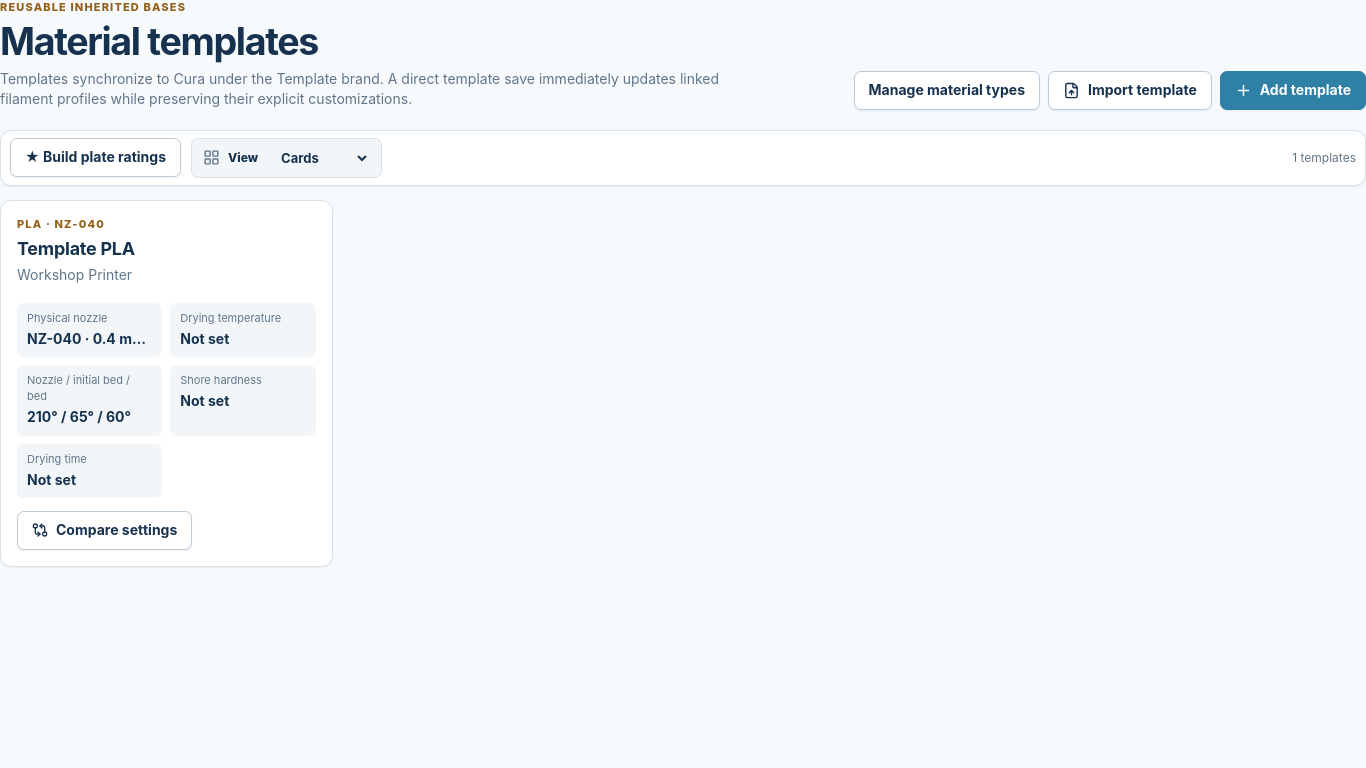
it: TemplatesPage › refreshes every profile and filament cache after a direct template save
Click the button with aria-label "Edit Template PLA": (80, 224) [0,200,332,567]
(page scrolled)
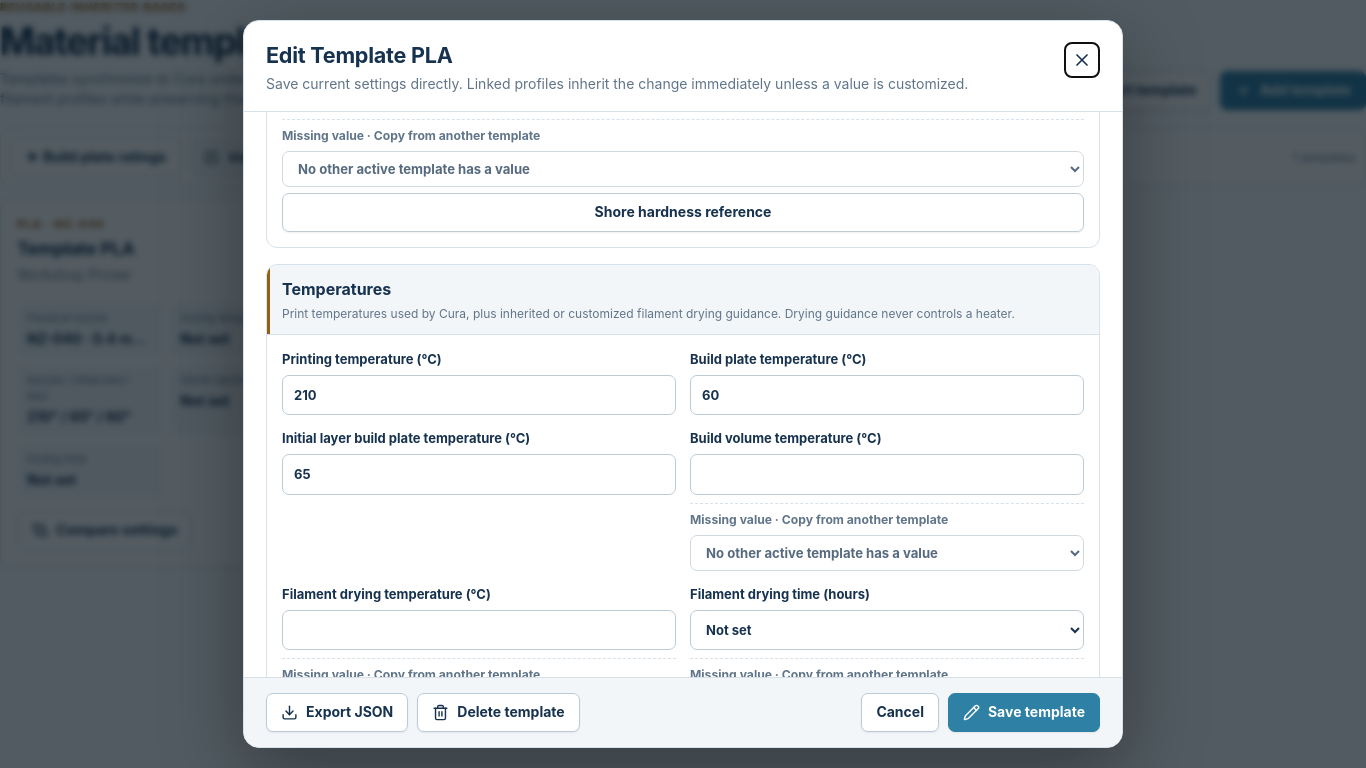
Expected: the dialog "Edit Template PLA" is shown
Replace the text in the number field labelled "Build plate temperature (°C)" with "45": (887, 395) [690,374,1084,415]
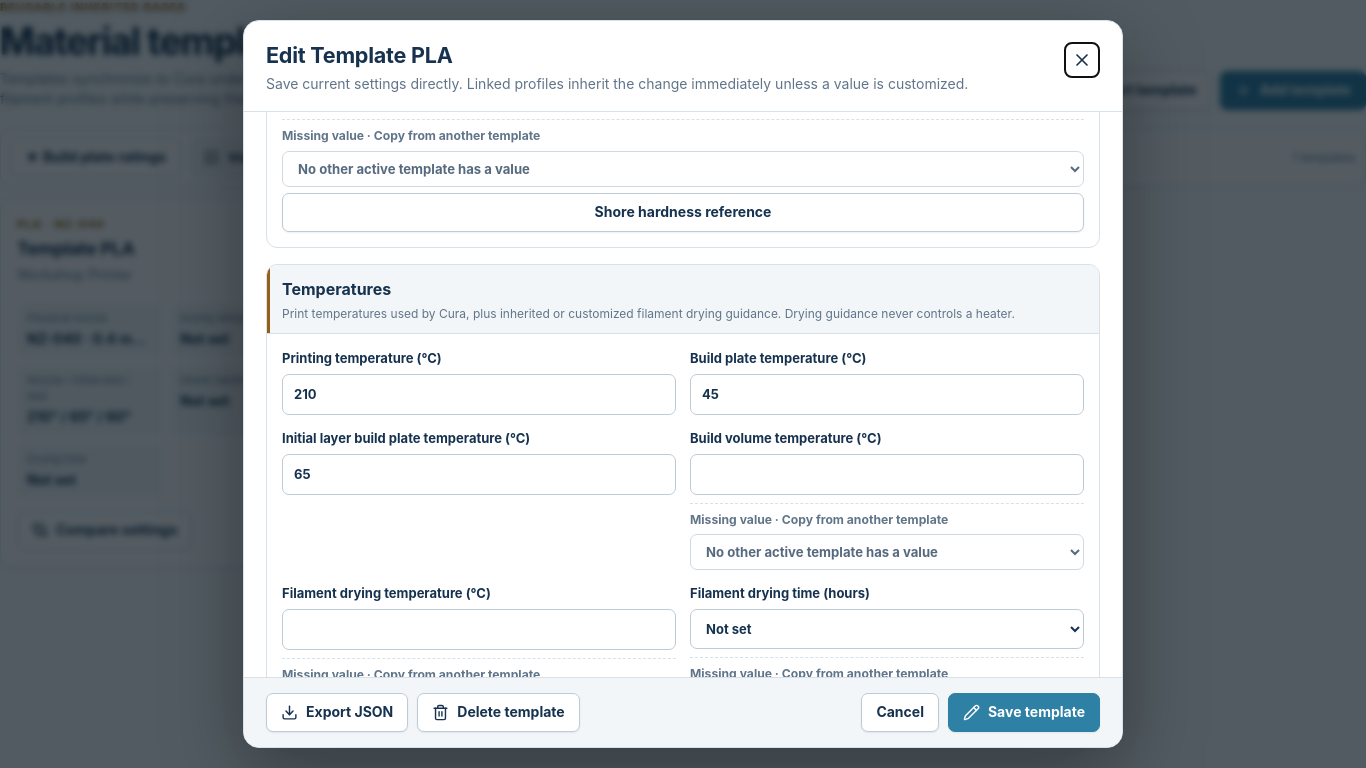
Click the button "Save template": (1024, 712) [948,693,1100,732]
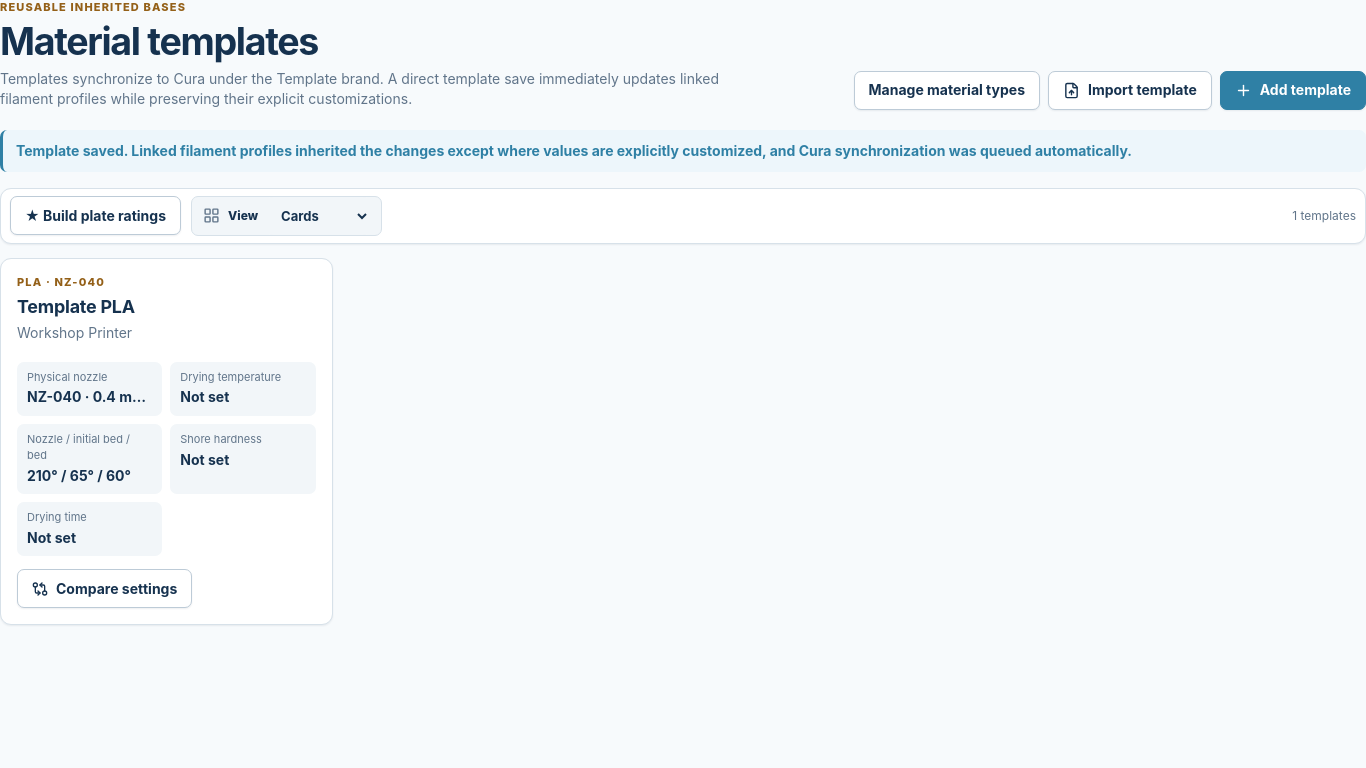
Expected: the text "Linked filament profiles inherited the changes" is shown, [16,142,1132,159]
